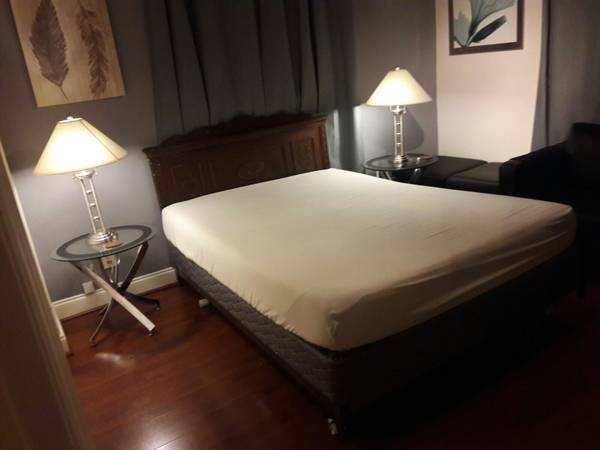bed: (150, 149, 576, 419)
lamp: (34, 118, 131, 245), (367, 69, 433, 167)
night stand: (58, 225, 162, 340)
